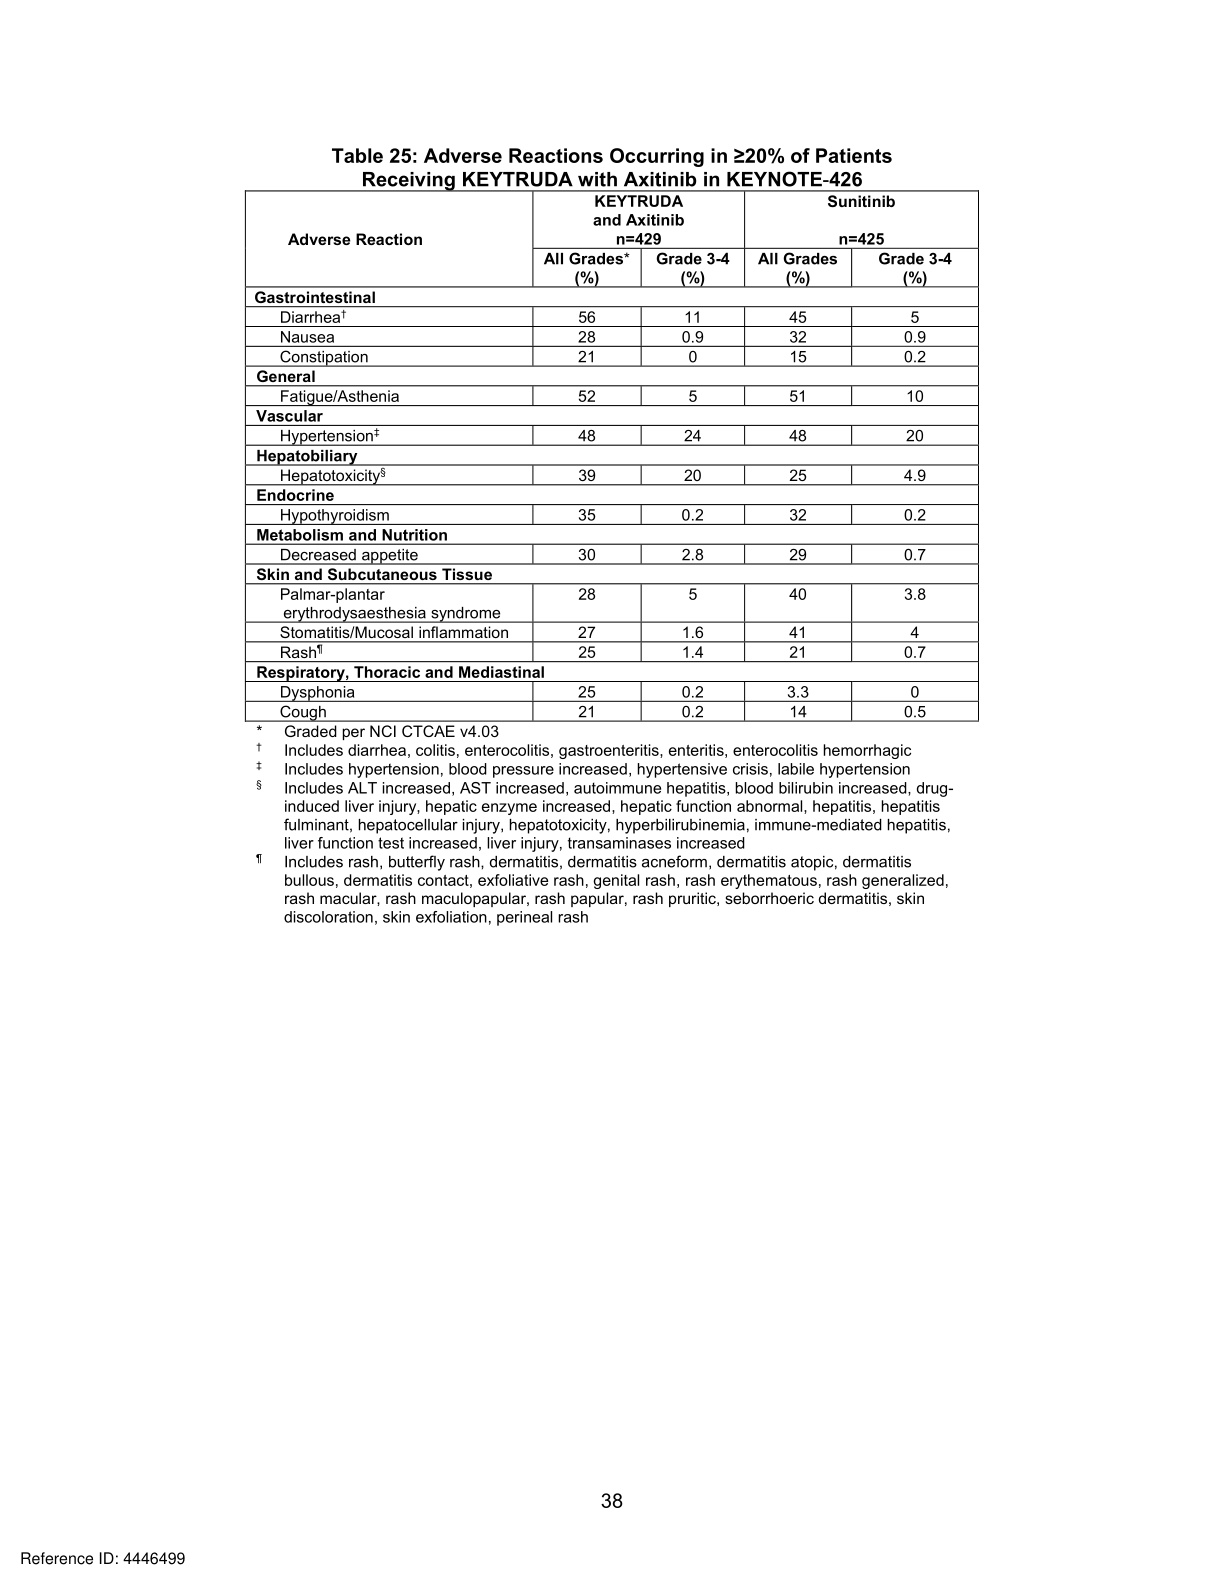merged_cells: (244, 189, 980, 723)
